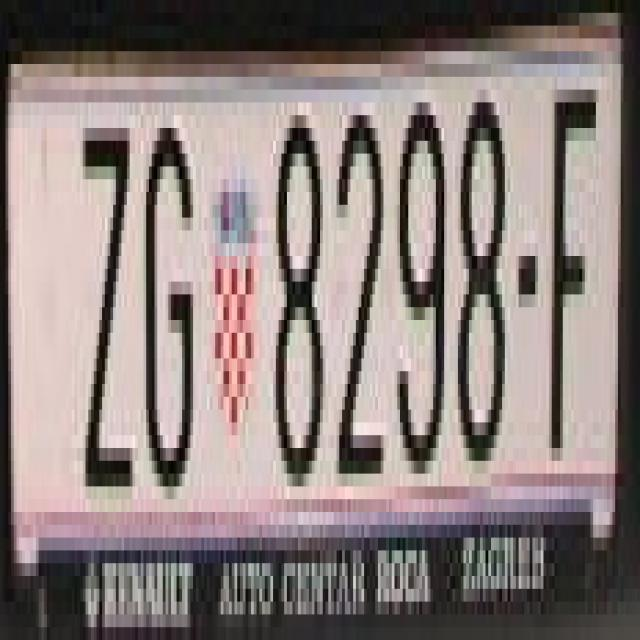2: (331, 116, 386, 487)
8: (455, 76, 505, 474), (273, 102, 320, 486)
9: (394, 102, 447, 486)
F: (546, 76, 599, 474)
G: (141, 116, 196, 487)
Z: (78, 115, 132, 499)
